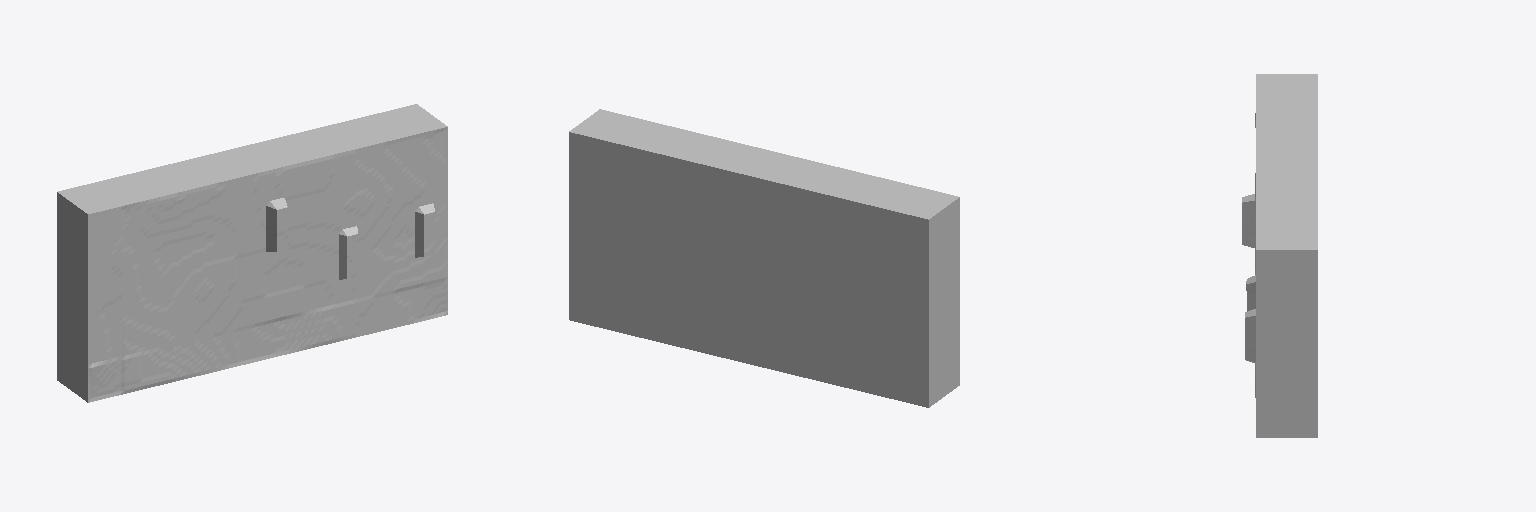
Rendered from rectangular_prism_bumps_8_3.obj.
The picture shows the model from 3 angles: view 1: azimuth 30°, elevation 25°; view 2: azimuth 150°, elevation 25°; view 3: azimuth 270°, elevation 25°; orthographic projection.
Bounding box in the file's own units: 10 × 5 × 1.84.